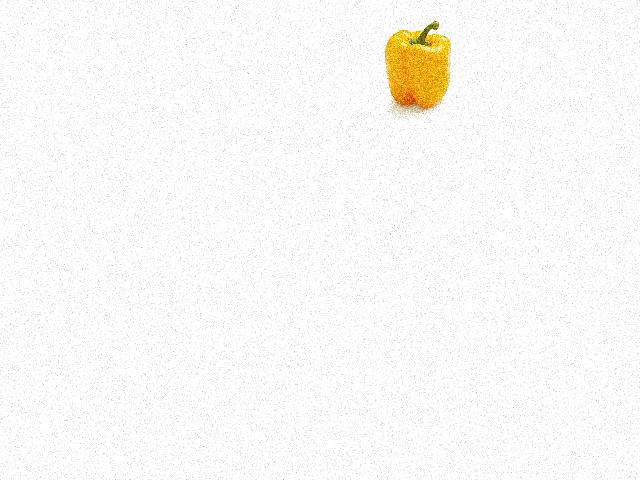bell_pepper: (384, 17, 459, 109)
